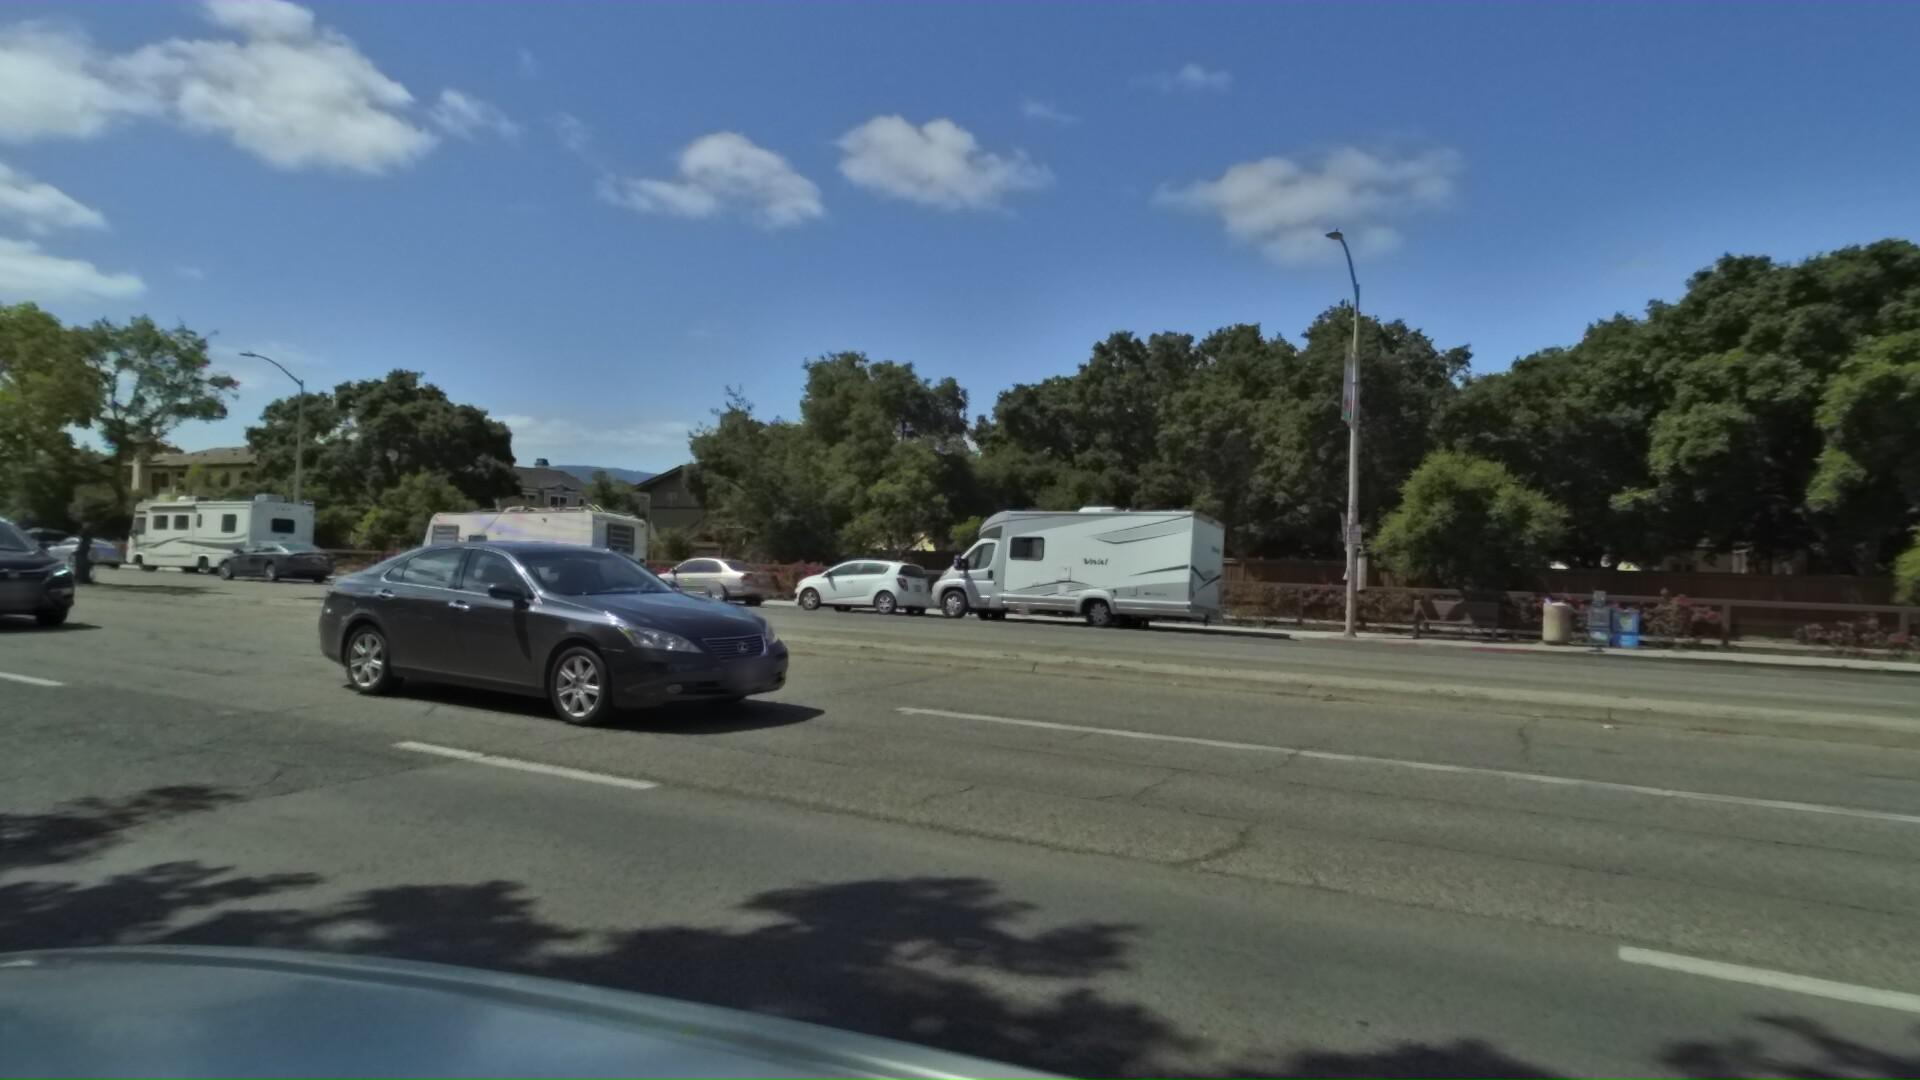car: (318, 504, 841, 749), (789, 551, 942, 618), (634, 550, 783, 611), (211, 535, 338, 585), (42, 531, 137, 574)
other_vehicle: (913, 495, 1232, 637), (415, 495, 663, 599), (123, 484, 328, 588)
